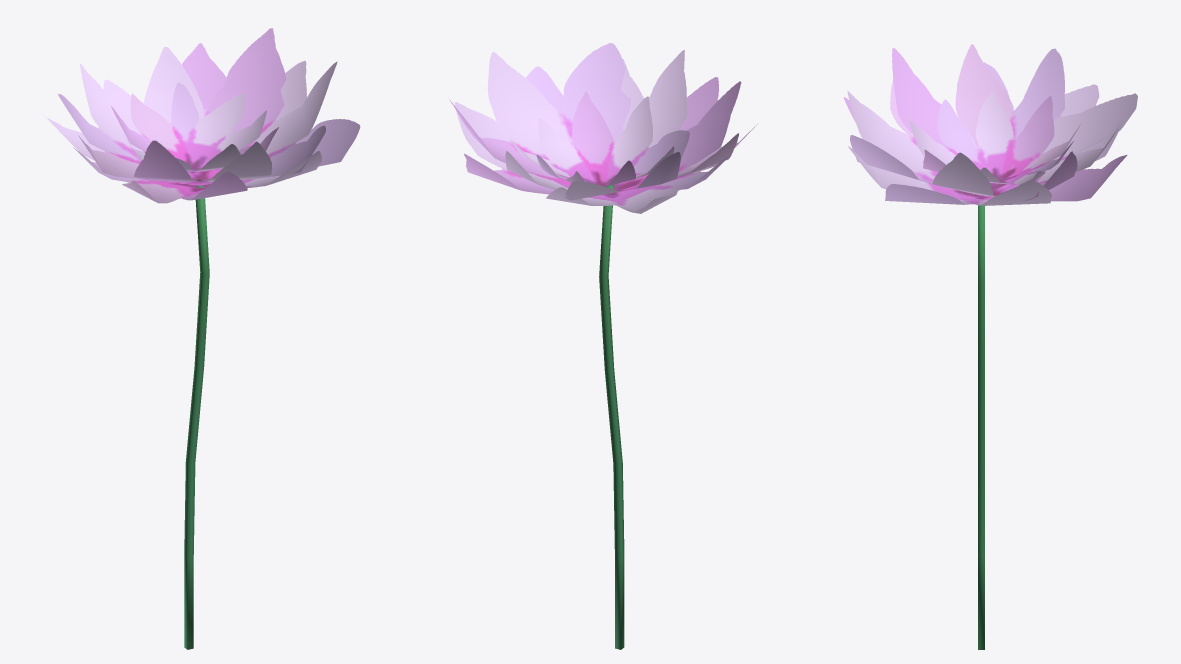
The model's file is SM_Waterlily.fbx.
3 renders of one model, left to right at view 1: azimuth 30°, elevation 25°; view 2: azimuth 150°, elevation 25°; view 3: azimuth 270°, elevation 25°, orthographic.
Visible parts, largest first — view 1: SM_Waterlily; view 2: SM_Waterlily; view 3: SM_Waterlily.
Boxes of the visible parts, left/top/right/bottom form: SM_Waterlily: left=43, top=28, right=360, bottom=649; SM_Waterlily: left=449, top=43, right=757, bottom=649; SM_Waterlily: left=844, top=44, right=1137, bottom=649.
Size of the model in its own units: 48.76 by 85.66 by 48.28.
